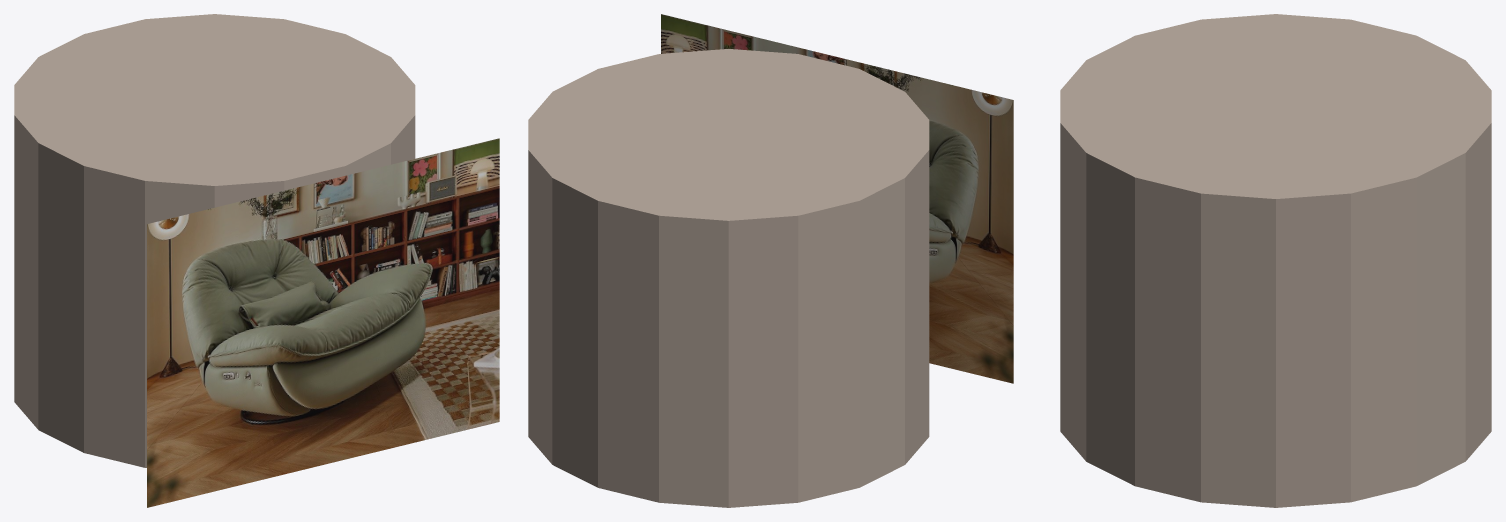
File: mocan-62.glb
The picture shows the model from 3 angles, left to right: view 1: azimuth 30°, elevation 25°; view 2: azimuth 150°, elevation 25°; view 3: azimuth 270°, elevation 25°; orthographic projection. The views are drawn at different scales.
Visible parts, largest first — view 1: furniture; view 2: furniture; view 3: furniture.
Boxes of the visible parts, <box> form: furniture: <box>14,14,499,507</box>; furniture: <box>528,14,1013,507</box>; furniture: <box>1060,14,1491,507</box>.
Size of the model in its own units: 0.9 by 0.7 by 0.9232.
2 materials, 1 textured.
